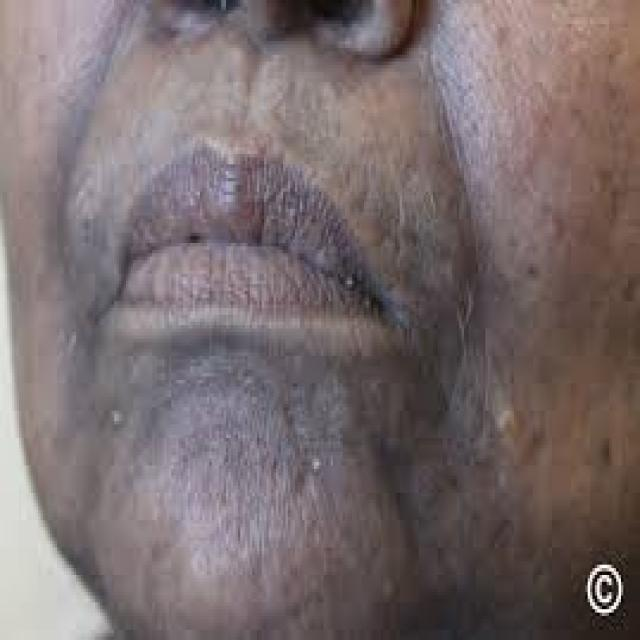pigmentation: (134, 377, 436, 501), (48, 89, 117, 436)
